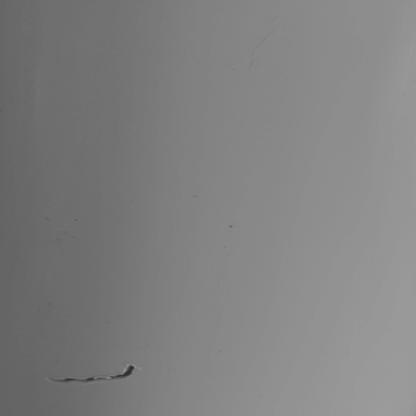fengxi: (47, 361, 134, 386)
